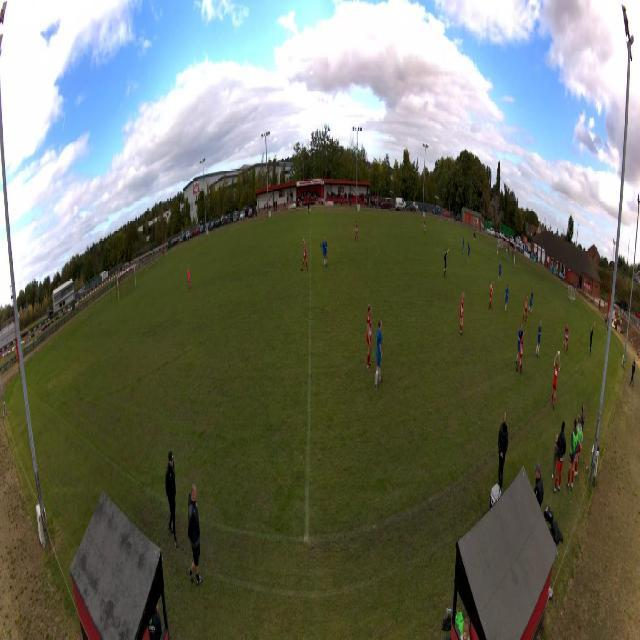player: (375, 319, 384, 391), (366, 303, 374, 373), (516, 330, 525, 377), (515, 321, 523, 370), (535, 320, 543, 360), (301, 237, 309, 273), (460, 291, 466, 337), (563, 323, 570, 354), (322, 235, 328, 269), (443, 247, 449, 281), (523, 293, 529, 324), (504, 283, 510, 314), (488, 280, 494, 311), (562, 322, 568, 352), (528, 288, 534, 316), (186, 263, 191, 290), (497, 259, 502, 284), (467, 242, 471, 266), (355, 219, 359, 243), (505, 246, 509, 263), (462, 235, 465, 256), (423, 217, 426, 235)
